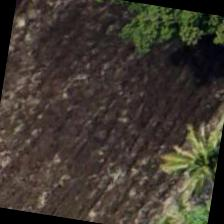Kelapa_Sawit: (155, 117, 223, 214)
